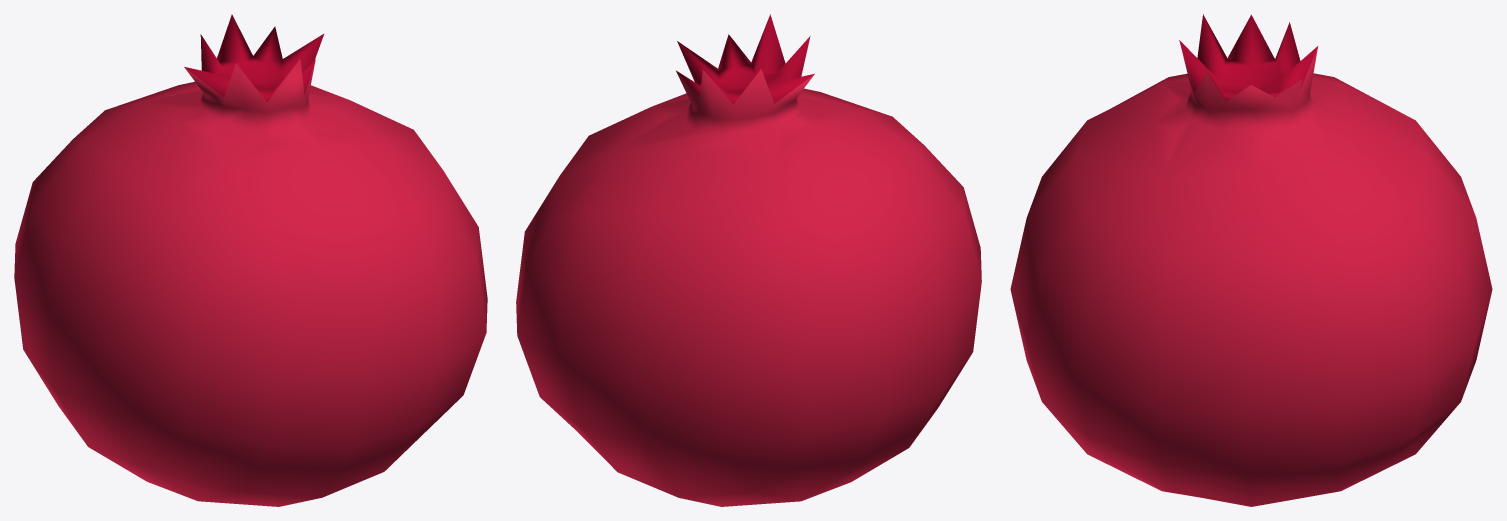
Rendered from Pomegranate.fbx.
The picture shows the model from 3 angles, left to right: view 1: azimuth 30°, elevation 25°; view 2: azimuth 150°, elevation 25°; view 3: azimuth 270°, elevation 25°; orthographic projection. The views are drawn at different scales.
Visible parts, largest first — view 1: Pomegranate; view 2: Pomegranate; view 3: Pomegranate.
Part boxes in pixels (<box>): Pomegranate: <box>14,14,487,506</box>; Pomegranate: <box>516,14,981,506</box>; Pomegranate: <box>1010,14,1492,506</box>.
Bounding box in the file's own units: 0.5382 × 0.5634 × 0.5457.
1 material, 1 textured.
